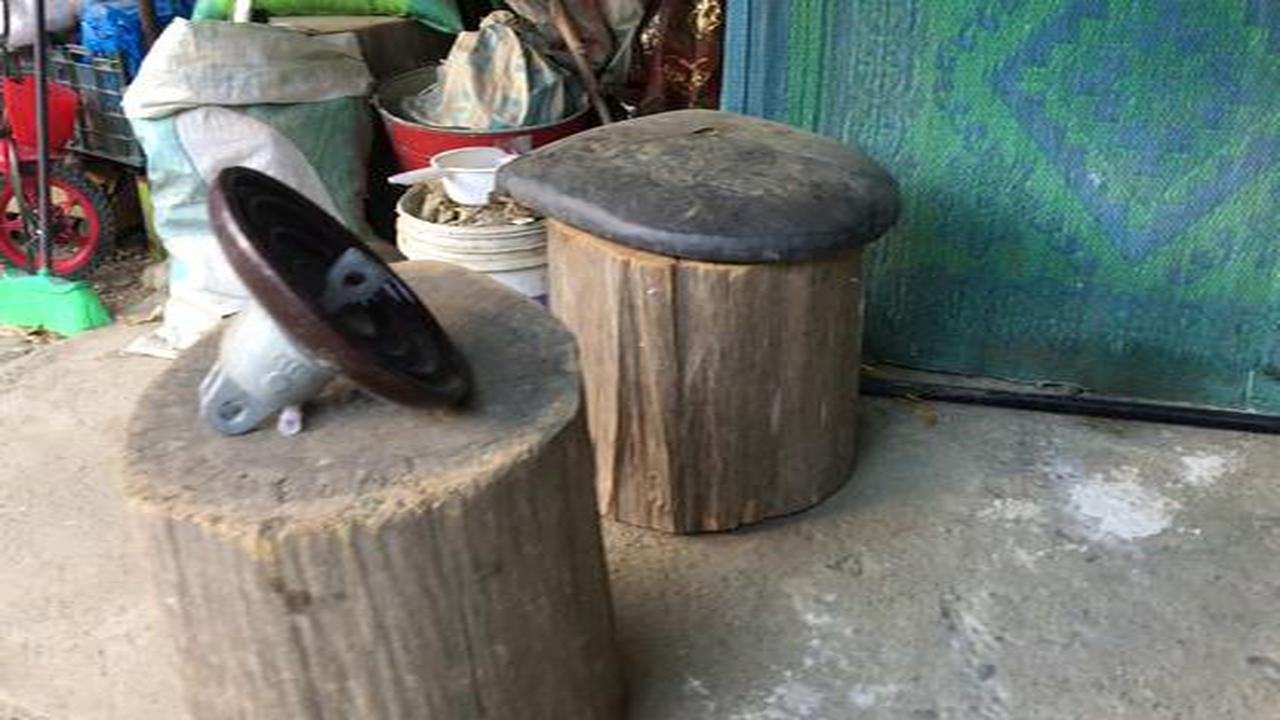insulator_disc: (192, 157, 479, 436)
